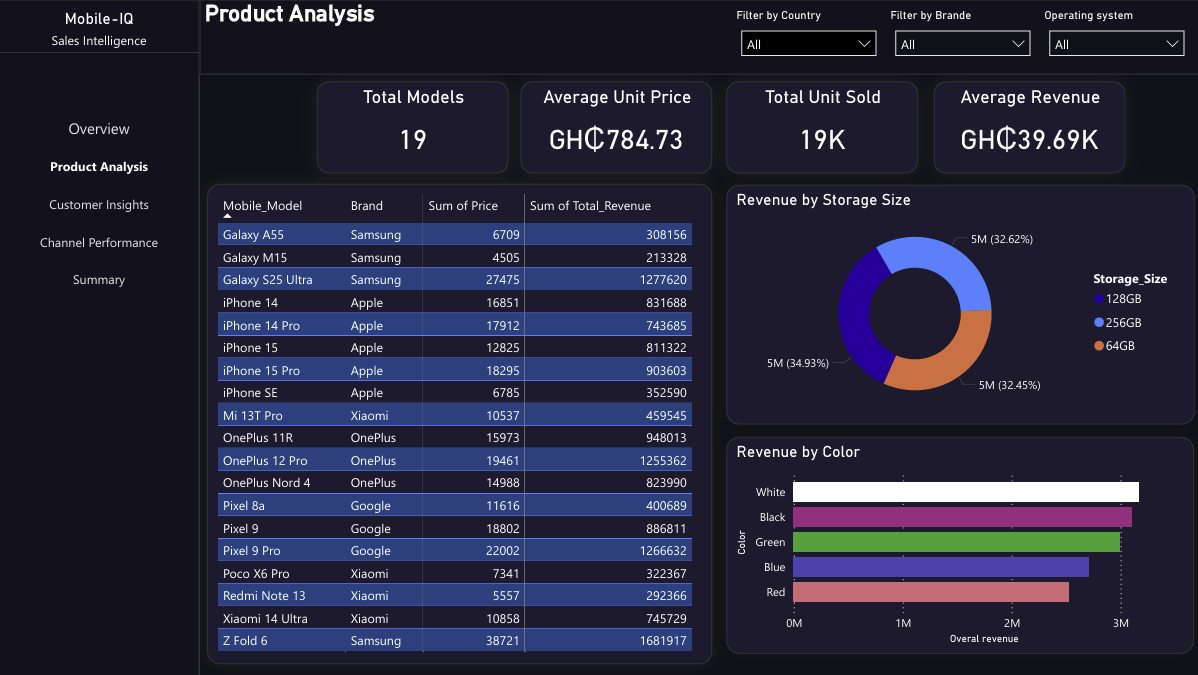

The page's visual inventory and layout, read from the dashboard file:
{"tool":"powerbi","page":{"name":"Product Analysis Page","canvas":[1280,720],"ordinal":1},"visuals":[{"type":"tableEx","title":"Total Revenue by Month","fields":{"Values":["Fact_Sales.Mobile_Model","Fact_Sales.Brand","Sum(Fact_Sales.Price)","Sum(Fact_Sales.Total_Revenue)"]},"box":[222,196,538,511],"z":0},{"type":"card","title":"Total Models","fields":{"Values":["Fact_Sales.Total models"]},"box":[339,87,204,98],"z":1000},{"type":"card","title":"Average Unit Price","fields":{"Values":["Fact_Sales.Average Price"]},"box":[556,87,204,98],"z":2000},{"type":"card","title":"Total Unit Sold","fields":{"Values":["Fact_Sales.Total unit sold"]},"box":[775,87,204,98],"z":3000},{"type":"donutChart","title":"Revenue by Storage Size","fields":{"Y":["Fact_Sales.Overal revenue"],"Category":["Fact_Sales.Storage_Size"]},"box":[775,197,499,255],"z":4000},{"type":"shape","box":[0,0,214,720],"z":5000},{"type":"actionButton","box":[12.5,115.5,188.1,40.3],"z":6000},{"type":"actionButton","box":[12.5,155.8,188.1,41.2],"z":7000},{"type":"actionButton","box":[12.5,197,188.1,40.3],"z":8000},{"type":"actionButton","box":[12.5,237.3,188.1,40.3],"z":9000},{"type":"actionButton","title":"Mobile-IQ","box":[0,10,214,70],"z":10000},{"type":"textbox","title":"Product Analysis","box":[214,0,1066,80],"z":11000},{"type":"slicer","title":"Filter by Country","fields":{"Values":["Fact_Sales.Country"]},"box":[781,10,164,53],"z":12000},{"type":"slicer","title":"Filter by Brande","fields":{"Values":["Fact_Sales.Brand"]},"box":[945,10,164,53],"z":13000},{"type":"slicer","title":"Operating system","fields":{"Values":["Fact_Sales.Operating_System"]},"box":[1109,10,164,53],"z":14000},{"type":"barChart","title":"Revenue by Color","fields":{"Y":["Fact_Sales.Overal revenue"],"Category":["Fact_Sales.Color"]},"box":[775,465,498,242],"z":15000},{"type":"card","title":"Average Revenue","fields":{"Values":["Fact_Sales.Average Revenue"]},"box":[996,87,204,98],"z":16000},{"type":"actionButton","box":[13,277,188,41],"z":17000}]}

Visuals, with their boxes in screenshot pixels (x1, y1, x2, y2), scaled from the page's 1280x720 canvas onto the 1198x675 screenshot:
"Total Revenue by Month" tableEx: detection(208, 184, 711, 663)
"Total Models" card: detection(317, 82, 508, 173)
"Average Unit Price" card: detection(520, 82, 711, 173)
"Total Unit Sold" card: detection(725, 82, 916, 173)
"Revenue by Storage Size" donutChart: detection(725, 185, 1192, 424)
shape: detection(0, 0, 200, 674)
actionButton: detection(12, 108, 188, 146)
actionButton: detection(12, 146, 188, 185)
actionButton: detection(12, 185, 188, 222)
actionButton: detection(12, 222, 188, 260)
"Mobile-IQ" actionButton: detection(0, 9, 200, 75)
"Product Analysis" textbox: detection(200, 0, 1197, 75)
"Filter by Country" slicer: detection(731, 9, 884, 59)
"Filter by Brande" slicer: detection(884, 9, 1038, 59)
"Operating system" slicer: detection(1038, 9, 1191, 59)
"Revenue by Color" barChart: detection(725, 436, 1191, 663)
"Average Revenue" card: detection(932, 82, 1123, 173)
actionButton: detection(12, 260, 188, 298)
